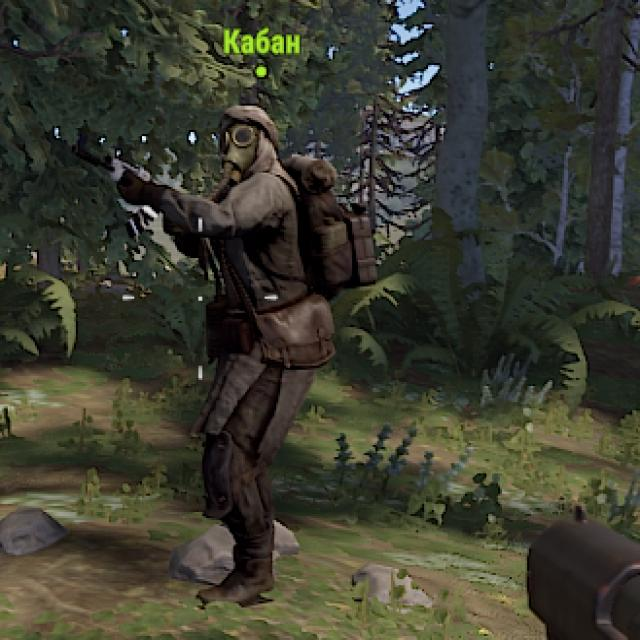Player: (186, 105, 336, 600)
